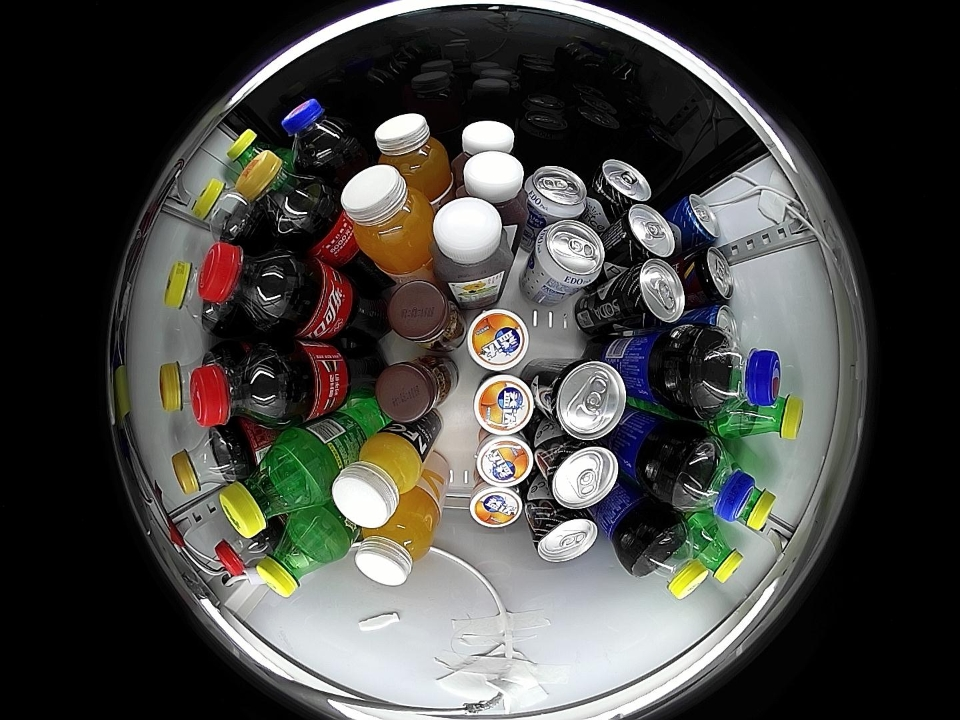baishikele: (631, 522, 709, 600), (166, 261, 227, 332), (192, 178, 255, 241)
baishikele-2: (685, 323, 780, 423), (672, 437, 760, 524), (280, 98, 356, 171)
kele-b: (200, 243, 296, 330), (190, 344, 287, 428), (213, 529, 267, 578)
kele-b-2: (236, 149, 329, 239), (171, 428, 239, 495), (159, 349, 215, 413)
lingdukele: (687, 247, 736, 307)
lujikafei: (386, 279, 462, 352), (375, 356, 449, 423)
nfc: (332, 432, 426, 528)
qingdaowangzi-1: (546, 359, 627, 440), (541, 438, 620, 510), (619, 259, 686, 328), (530, 506, 599, 563), (612, 203, 678, 262), (591, 159, 652, 211)
qingdaowangzi-2: (672, 195, 721, 247), (703, 305, 740, 349)
rusuanjunqishui: (532, 220, 606, 290), (525, 166, 589, 222)
weic: (340, 164, 436, 271), (353, 494, 439, 586), (374, 113, 452, 196)
xuebi-b: (219, 446, 321, 538), (257, 518, 335, 597), (733, 388, 804, 441), (690, 522, 744, 584), (226, 128, 280, 172), (740, 487, 778, 532)
yida: (467, 309, 531, 372), (474, 374, 536, 435), (475, 434, 535, 487), (470, 484, 524, 530)
youyanggudong: (432, 197, 514, 291), (457, 151, 526, 222), (458, 120, 517, 164)
